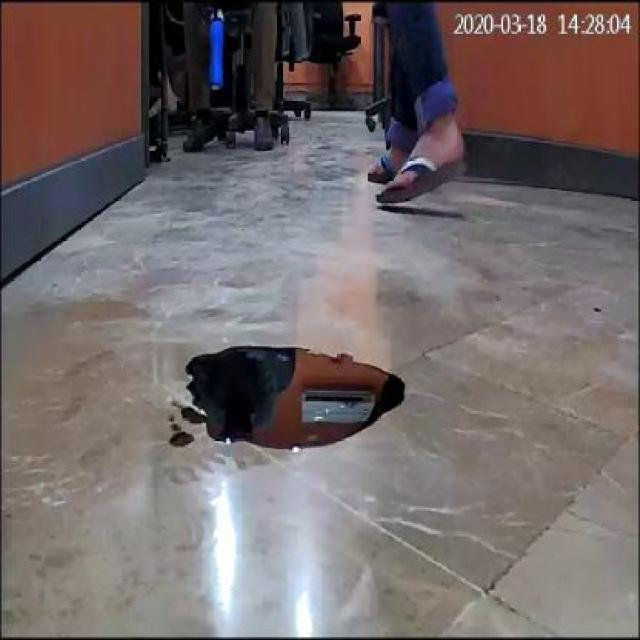spill: (182, 344, 406, 448)
